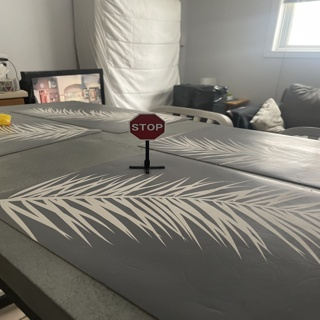sign_stop: (127, 112, 164, 140)
